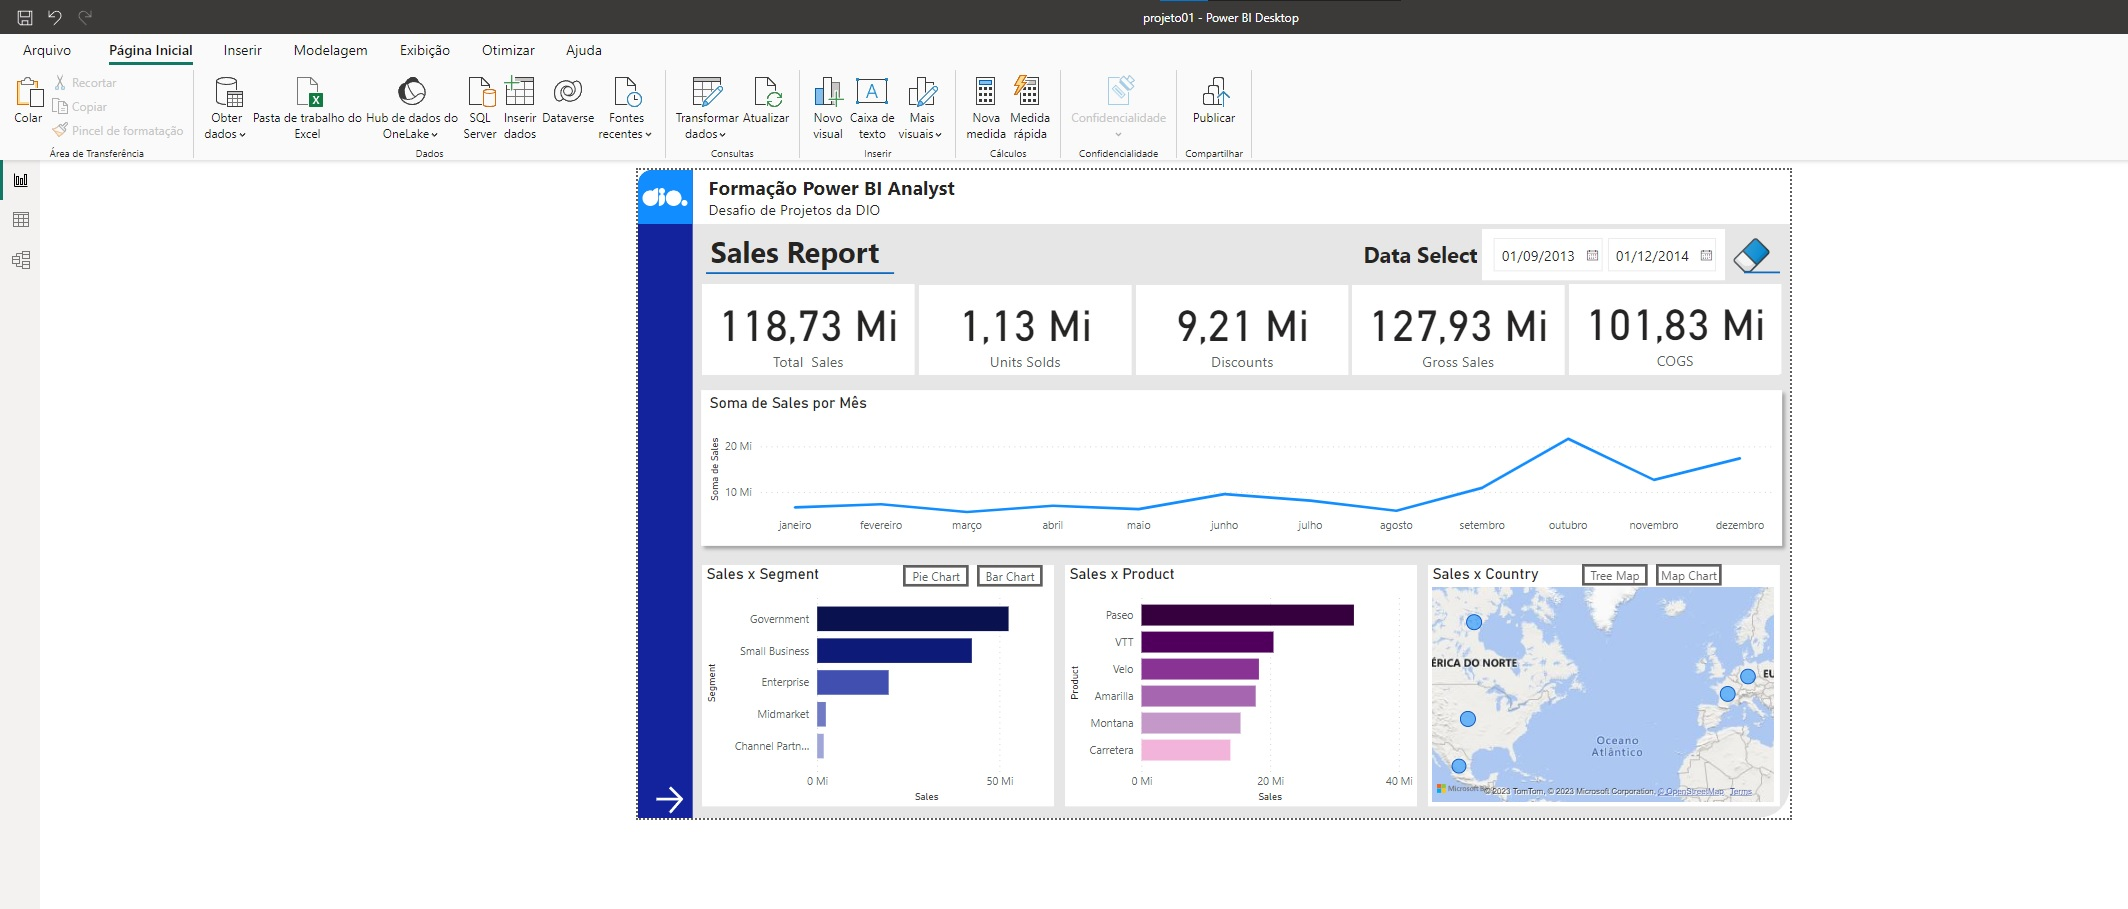

The dashboard page shown, as its layout file describes it:
{"tool":"powerbi","page":{"name":"Página 1","canvas":[1280,720],"ordinal":0},"visuals":[{"type":"shape","box":[0,0,1280,720],"z":0},{"type":"group","id":"g1","title":"Borracha","box":[1212.2,68.9,56.7,51.1],"z":0,"group":"g3"},{"type":"image","box":[1212.2,68.9,50,51.1],"z":0,"group":"g1"},{"type":"shape","box":[1034.4,127.8,234.4,100],"z":0,"group":"g2"},{"type":"clusteredBarChart","title":"Sales x Segment","fields":{"Category":["financials.Segment"],"Y":["Sum(financials. Sales)"]},"box":[71.1,438.9,391.1,267.8],"z":0,"group":"g5"},{"type":"map","title":"Sales x Country","fields":{"Category":["financials.Country"],"Size":["Sum(financials. Sales)"]},"box":[877.8,438.9,390,267.8],"z":0,"group":"g4"},{"type":"shape","box":[0,0,61,720],"z":1000},{"type":"slicer","fields":{"Values":["financials.Date"]},"box":[937.7,65.5,270,56.7],"z":1000,"group":"g3"},{"type":"shape","box":[1228.9,107.8,40,12.2],"z":1000,"group":"g1"},{"type":"shape","box":[793.3,127.8,235.6,100],"z":1000,"group":"g2"},{"type":"actionButton","title":"Botão Tree Map","box":[1048.9,437.8,73.3,24.4],"z":1500,"group":"g4"},{"type":"shape","box":[0,0,61,60],"z":2000},{"type":"textbox","box":[784.4,72.2,153.3,43.3],"z":2000,"group":"g3"},{"type":"shape","box":[553.3,127.8,234.4,100],"z":2000,"group":"g2"},{"type":"actionButton","title":"Botão Map Chart","box":[1131.1,437.8,73.3,24.4],"z":2000,"group":"g4"},{"type":"actionButton","title":"Botão Bar Chart","box":[376.7,438.9,73.3,24.4],"z":2000,"group":"g5"},{"type":"actionButton","title":"Botão Pie Chart","box":[294.4,438.9,73.3,24.4],"z":2500,"group":"g5"},{"type":"image","title":"Dio_Logo","box":[0,0,60,60],"z":3000},{"type":"actionButton","title":"Botão Clean","box":[1212.2,63.3,65.6,58.9],"z":3000,"group":"g3"},{"type":"shape","box":[312.2,127.8,235.6,100],"z":3000,"group":"g2"},{"type":"shape","box":[61.1,0,1218.9,60],"z":4000},{"type":"shape","box":[71.1,126.7,235.6,100],"z":4000,"group":"g2"},{"type":"textbox","box":[73.3,0,300,60],"z":5000},{"type":"card","fields":{"Values":["Sum(financials.COGS)"]},"box":[1034.4,126.7,235.6,100],"z":5000,"group":"g2"},{"type":"group","id":"g2","title":"Cartões","box":[71.1,126.7,1198.9,101.1],"z":6000},{"type":"shape","box":[75.6,85.6,208.9,57.8],"z":7000},{"type":"card","fields":{"Values":["Sum(financials.Gross Sales)"]},"box":[793.3,127.8,235.6,100],"z":7000,"group":"g2"},{"type":"card","fields":{"Values":["Sum(financials.Discounts)"]},"box":[553.3,127.8,235.6,100],"z":7500,"group":"g2"},{"type":"textbox","box":[75.6,63.3,208.9,56.7],"z":8000},{"type":"card","fields":{"Values":["Sum(financials.Units Sold)"]},"box":[312.2,127.8,235.6,100],"z":8000,"group":"g2"},{"type":"shape","box":[61.1,235.6,1218.9,191.1],"z":9000},{"type":"card","fields":{"Values":["Sum(financials. Sales)"]},"box":[71.1,127.8,235.6,100],"z":9500,"group":"g2"},{"type":"shape","box":[71.1,438.9,391.1,267.8],"z":10000},{"type":"shape","box":[877.8,438.9,391.1,267.8],"z":11000},{"type":"shape","box":[474.4,438.9,391.1,267.8],"z":12000},{"type":"lineChart","fields":{"Y":["Sum(financials. Sales)"],"Category":["financials.Date.Variation.Hierarquia de datas.Mês"]},"box":[74.4,248.9,1193.3,164.4],"z":13000},{"type":"clusteredBarChart","title":"Sales x Product","fields":{"Y":["Sum(financials. Sales)"],"Category":["financials.Product"]},"box":[474.4,438.9,391.1,267.8],"z":14000},{"type":"group","id":"g3","title":"Filtro por Data","box":[784.4,63.3,493.3,58.9],"z":15000},{"type":"group","id":"g4","title":"Sales x Country","box":[877.8,437.8,390,268.9],"z":16000},{"type":"group","id":"g5","title":"Sales x Segment","box":[71.1,438.9,391.1,267.8],"z":17000},{"type":"actionButton","box":[14.4,680,45.6,40],"z":18000}]}

Visuals, with their boxes on the page's 1280x720 design canvas (x1, y1, x2, y2). These are canvas units, not pixel positions in the 2128x909 screenshot, which may show the page scaled, cropped or inside an application window:
shape: {"left": 0, "top": 0, "right": 1280, "bottom": 720}
"Borracha" group: {"left": 1212, "top": 69, "right": 1269, "bottom": 120}
image: {"left": 1212, "top": 69, "right": 1262, "bottom": 120}
shape: {"left": 1034, "top": 128, "right": 1269, "bottom": 228}
"Sales x Segment" clusteredBarChart: {"left": 71, "top": 439, "right": 462, "bottom": 707}
"Sales x Country" map: {"left": 878, "top": 439, "right": 1268, "bottom": 707}
shape: {"left": 0, "top": 0, "right": 61, "bottom": 720}
slicer - financials.Date: {"left": 938, "top": 66, "right": 1208, "bottom": 122}
shape: {"left": 1229, "top": 108, "right": 1269, "bottom": 120}
shape: {"left": 793, "top": 128, "right": 1029, "bottom": 228}
"Botão Tree Map" actionButton: {"left": 1049, "top": 438, "right": 1122, "bottom": 462}
shape: {"left": 0, "top": 0, "right": 61, "bottom": 60}
textbox: {"left": 784, "top": 72, "right": 938, "bottom": 116}
shape: {"left": 553, "top": 128, "right": 788, "bottom": 228}
"Botão Map Chart" actionButton: {"left": 1131, "top": 438, "right": 1204, "bottom": 462}
"Botão Bar Chart" actionButton: {"left": 377, "top": 439, "right": 450, "bottom": 463}
"Botão Pie Chart" actionButton: {"left": 294, "top": 439, "right": 368, "bottom": 463}
"Dio_Logo" image: {"left": 0, "top": 0, "right": 60, "bottom": 60}
"Botão Clean" actionButton: {"left": 1212, "top": 63, "right": 1278, "bottom": 122}
shape: {"left": 312, "top": 128, "right": 548, "bottom": 228}
shape: {"left": 61, "top": 0, "right": 1280, "bottom": 60}
shape: {"left": 71, "top": 127, "right": 307, "bottom": 227}
textbox: {"left": 73, "top": 0, "right": 373, "bottom": 60}
card - Sum(financials.COGS): {"left": 1034, "top": 127, "right": 1270, "bottom": 227}
"Cartões" group: {"left": 71, "top": 127, "right": 1270, "bottom": 228}
shape: {"left": 76, "top": 86, "right": 284, "bottom": 143}
card - Sum(financials.Gross Sales): {"left": 793, "top": 128, "right": 1029, "bottom": 228}
card - Sum(financials.Discounts): {"left": 553, "top": 128, "right": 789, "bottom": 228}
textbox: {"left": 76, "top": 63, "right": 284, "bottom": 120}
card - Sum(financials.Units Sold): {"left": 312, "top": 128, "right": 548, "bottom": 228}
shape: {"left": 61, "top": 236, "right": 1280, "bottom": 427}
card - Sum(financials. Sales): {"left": 71, "top": 128, "right": 307, "bottom": 228}
shape: {"left": 71, "top": 439, "right": 462, "bottom": 707}
shape: {"left": 878, "top": 439, "right": 1269, "bottom": 707}
shape: {"left": 474, "top": 439, "right": 866, "bottom": 707}
lineChart - Sum(financials. Sales) x financials.Date.Variation.Hierarquia de datas.Mês: {"left": 74, "top": 249, "right": 1268, "bottom": 413}
"Sales x Product" clusteredBarChart: {"left": 474, "top": 439, "right": 866, "bottom": 707}
"Filtro por Data" group: {"left": 784, "top": 63, "right": 1278, "bottom": 122}
"Sales x Country" group: {"left": 878, "top": 438, "right": 1268, "bottom": 707}
"Sales x Segment" group: {"left": 71, "top": 439, "right": 462, "bottom": 707}
actionButton: {"left": 14, "top": 680, "right": 60, "bottom": 720}
